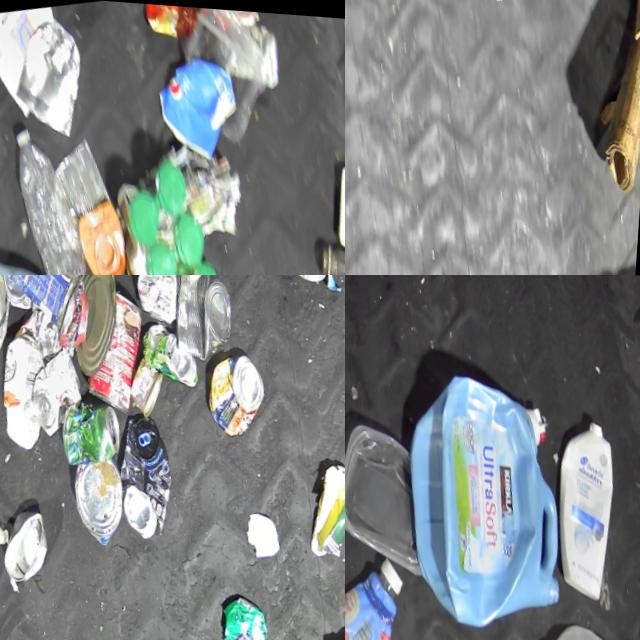can: (70, 279, 162, 416), (3, 9, 96, 137), (108, 406, 190, 540), (59, 275, 134, 374), (159, 275, 244, 361), (201, 342, 276, 435), (25, 340, 95, 438), (70, 452, 138, 548), (0, 275, 96, 335), (60, 391, 132, 467), (139, 311, 205, 390), (0, 505, 61, 587), (219, 584, 288, 640), (125, 275, 197, 325), (125, 347, 175, 415), (0, 275, 23, 355), (0, 275, 37, 311)
non_white_jug: (384, 349, 588, 636)
plastic_bottle: (0, 110, 102, 275)
